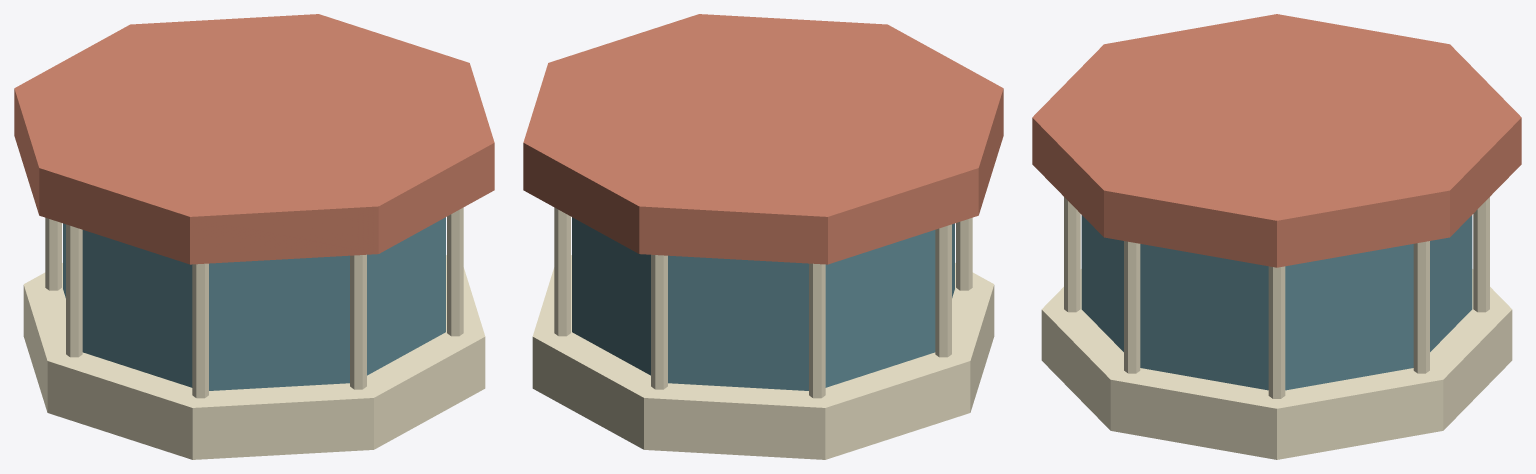
Rendered from LibraryLantern.fbx.
3 renders of one model, left to right at view 1: azimuth 30°, elevation 25°; view 2: azimuth 150°, elevation 25°; view 3: azimuth 270°, elevation 25°, orthographic.
Parts seen in each view (by area): view 1: Library lantern terracotta cap, Library reading light, Library lantern cream base, Clerestory mullion.005, Clerestory mullion.006, Clerestory mullion.004, Clerestory mullion.007, Clerestory mullion.003; view 2: Library lantern terracotta cap, Library reading light, Library lantern cream base, Clerestory mullion.003, Clerestory mullion.002, Clerestory mullion.004, Clerestory mullion.001, Clerestory mullion.005; view 3: Library lantern terracotta cap, Library reading light, Library lantern cream base, Clerestory mullion, Clerestory mullion.001, Clerestory mullion.007, Clerestory mullion.002, Clerestory mullion.006.
Boxes of the visible parts, <box> form: Library lantern terracotta cap: <box>14,14,494,264</box>; Library reading light: <box>63,217,445,390</box>; Library lantern cream base: <box>23,255,485,459</box>; Clerestory mullion.005: <box>192,263,208,398</box>; Clerestory mullion.006: <box>350,254,366,389</box>; Clerestory mullion.004: <box>66,224,82,357</box>; Clerestory mullion.007: <box>447,207,463,336</box>; Clerestory mullion.003: <box>45,217,61,290</box>; Library lantern terracotta cap: <box>523,14,1003,264</box>; Library reading light: <box>572,217,954,390</box>; Library lantern cream base: <box>532,255,994,459</box>; Clerestory mullion.003: <box>809,263,825,398</box>; Clerestory mullion.002: <box>651,254,667,389</box>; Clerestory mullion.004: <box>935,224,951,357</box>; Clerestory mullion.001: <box>554,207,570,336</box>; Clerestory mullion.005: <box>956,217,972,290</box>; Library lantern terracotta cap: <box>1032,14,1521,267</box>; Library reading light: <box>1081,215,1472,390</box>; Library lantern cream base: <box>1041,269,1512,459</box>; Clerestory mullion: <box>1268,266,1285,398</box>; Clerestory mullion.001: <box>1413,241,1429,373</box>; Clerestory mullion.007: <box>1124,241,1140,373</box>; Clerestory mullion.002: <box>1473,197,1489,312</box>; Clerestory mullion.006: <box>1064,197,1080,312</box>.
Bounding box in the file's own units: 208 × 114 × 208.
